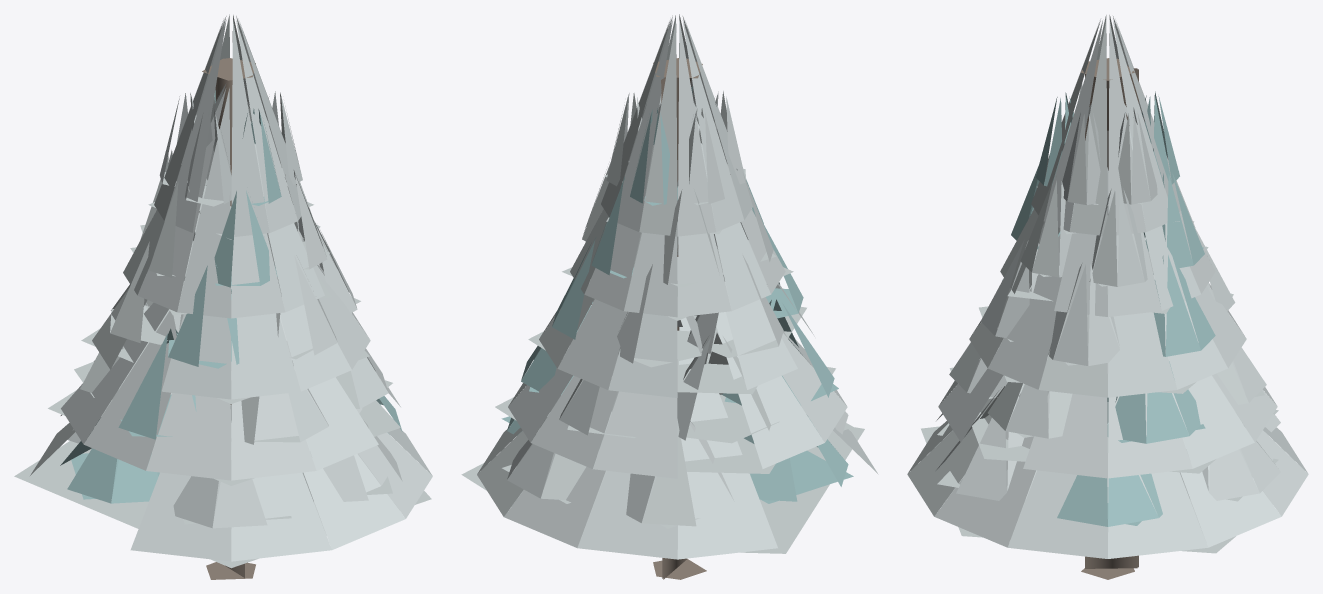
The model's file is white-pine.glb.
3 views of the same model, side by side, from view 1: azimuth 30°, elevation 25°; view 2: azimuth 150°, elevation 25°; view 3: azimuth 270°, elevation 25° (orthographic).
Parts seen in each view (by area): view 1: Frosted crown.001, Frosted crown, Frosted crown.003, Frosted crown.002, Frosted crown.004, Snow branch.004, Snow branch.003, Snow branch.009, Snow branch.015, Snow branch.010, Snow branch.021, Snow branch.014 (+12 smaller); view 2: Frosted crown, Frosted crown.001, Frosted crown.004, Frosted crown.003, Frosted crown.002, Snow branch.002, Snow branch.008, Snow branch.003, Snow branch.001, Snow branch.013, Snow branch.014, Snow branch.012 (+13 smaller); view 3: Frosted crown, Frosted crown.001, Frosted crown.002, Frosted crown.004, Frosted crown.003, Snow branch, Snow branch.017, Snow branch.006, Snow branch.023, Snow branch.011, Snow branch.005, Snow branch.012 (+13 smaller).
Part boxes in pixels (box(x1,y1,x2,y2)): Frosted crown.001: box(48, 276, 400, 485); Frosted crown: box(14, 408, 432, 568); Frosted crown.003: box(123, 83, 338, 318); Frosted crown.002: box(81, 185, 370, 403); Frosted crown.004: box(148, 14, 313, 239); Snow branch.004: box(173, 421, 291, 528); Snow branch.003: box(60, 418, 159, 503); Snow branch.009: box(118, 328, 196, 439); Snow branch.015: box(168, 265, 239, 368); Snow branch.010: box(230, 360, 328, 444); Snow branch.021: box(214, 190, 277, 287); Snow branch.014: box(110, 241, 180, 344); Frosted crown: box(461, 315, 878, 559); Frosted crown.001: box(495, 312, 847, 478); Frosted crown.004: box(601, 14, 752, 236); Frosted crown.003: box(562, 102, 793, 320); Frosted crown.002: box(528, 232, 814, 397); Snow branch.002: box(626, 419, 734, 528); Snow branch.008: box(677, 333, 779, 443); Snow branch.003: box(744, 415, 853, 503); Snow branch.001: box(502, 418, 606, 503); Snow branch.013: box(617, 264, 702, 367); Snow branch.014: box(687, 255, 783, 357); Snow branch.012: box(552, 237, 596, 339); Frosted crown: box(907, 391, 1308, 558); Frosted crown.001: box(938, 357, 1277, 478); Frosted crown.002: box(969, 213, 1246, 397); Frosted crown.004: box(1031, 15, 1180, 235); Frosted crown.003: box(1000, 104, 1215, 316); Snow branch: box(1057, 473, 1162, 526); Snow branch.017: box(1048, 263, 1119, 366); Snow branch.006: box(1107, 361, 1205, 443); Snow branch.023: box(1089, 189, 1153, 286); Snow branch.011: box(987, 360, 1072, 438); Snow branch.005: box(936, 386, 1036, 500); Snow branch.012: box(1153, 255, 1215, 356).
Size of the model in its own units: 3.39 by 5.3 by 3.5.
